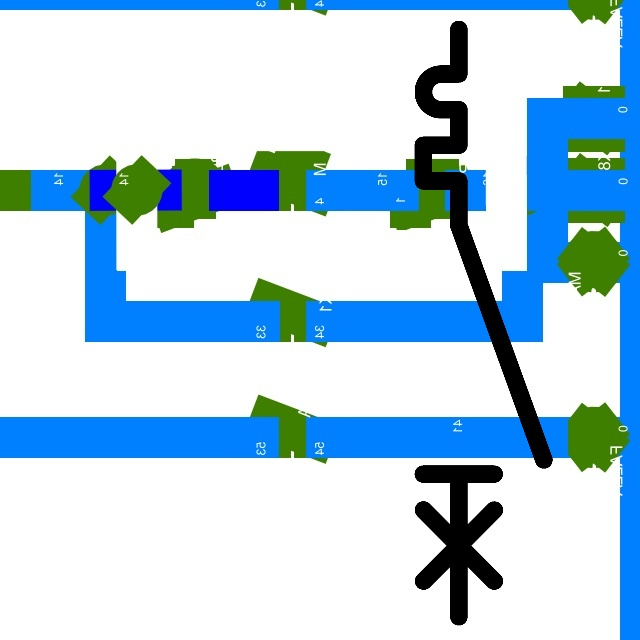interruptor_termomagnetico: (408, 14, 559, 632)
